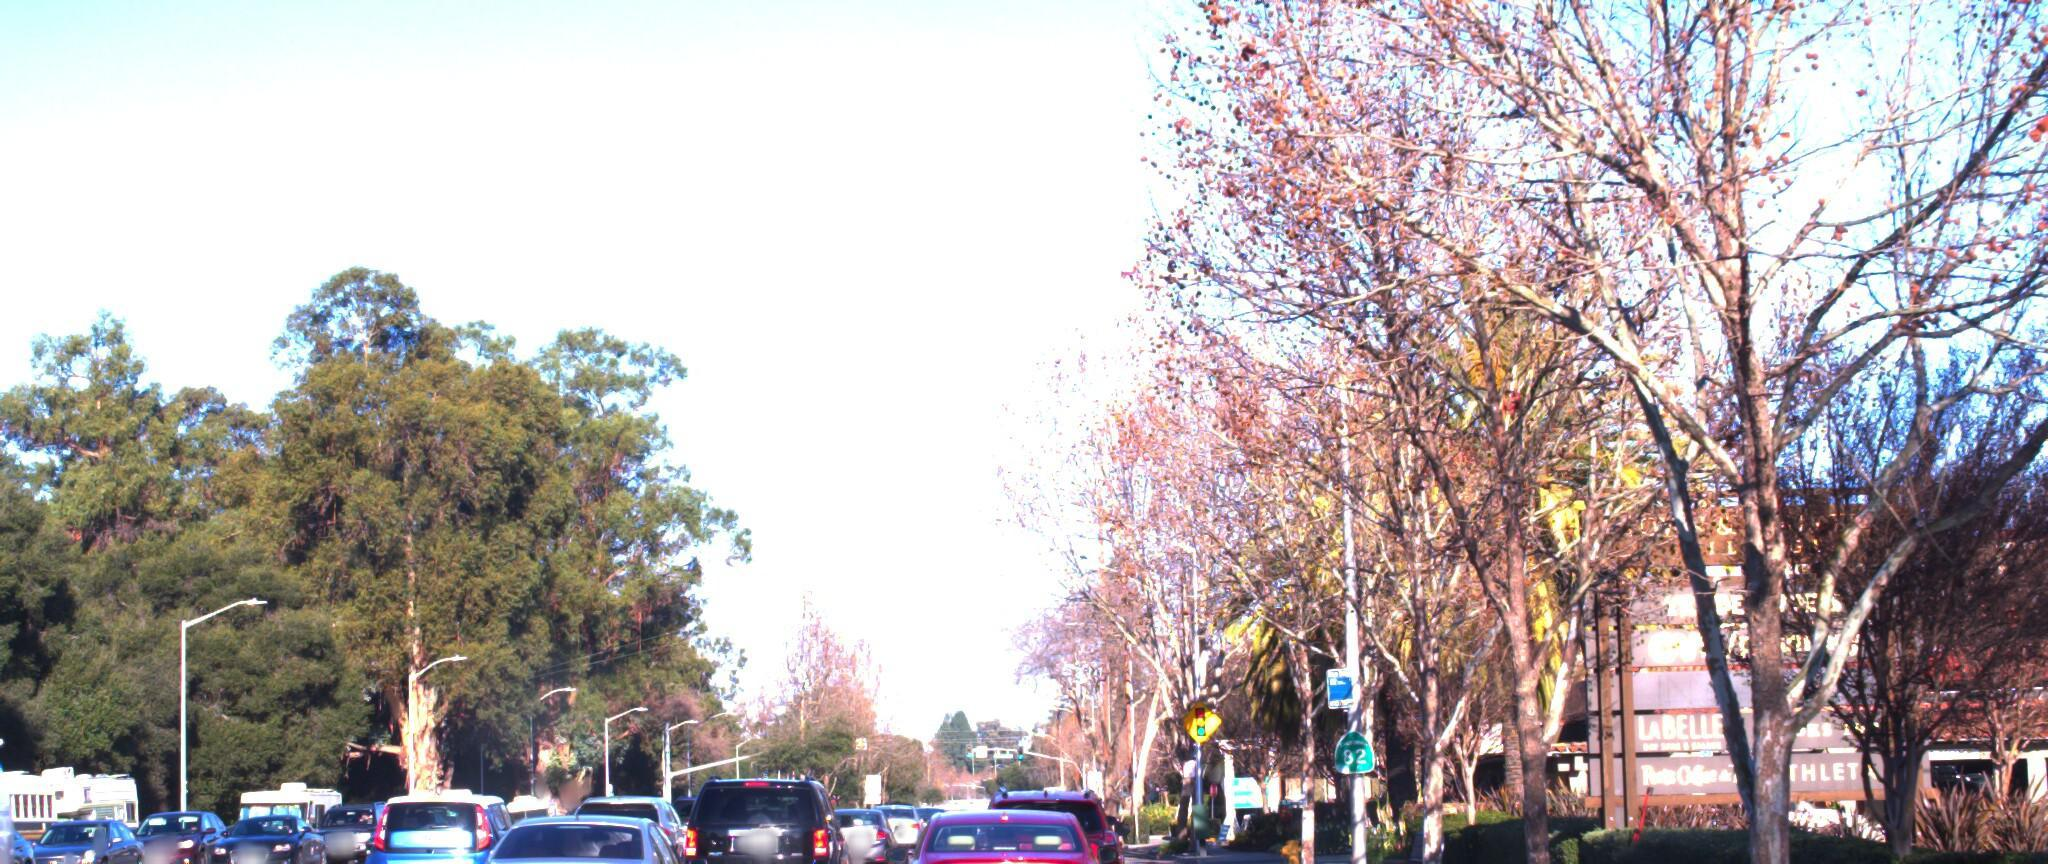bus: (0, 735, 84, 864)
car: (673, 743, 848, 864), (473, 791, 731, 864), (891, 790, 1126, 864), (357, 771, 542, 864), (974, 769, 1127, 864), (571, 767, 701, 864), (8, 804, 157, 864), (114, 797, 246, 864), (210, 787, 334, 854), (0, 702, 48, 864), (822, 784, 908, 857)
